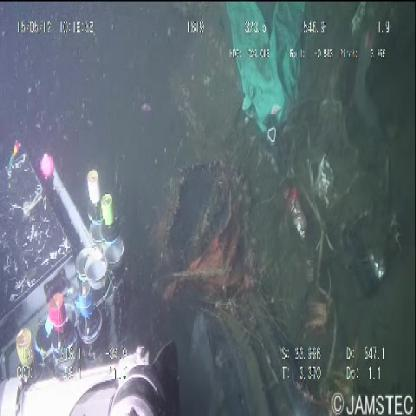Rác: (221, 0, 310, 156)
